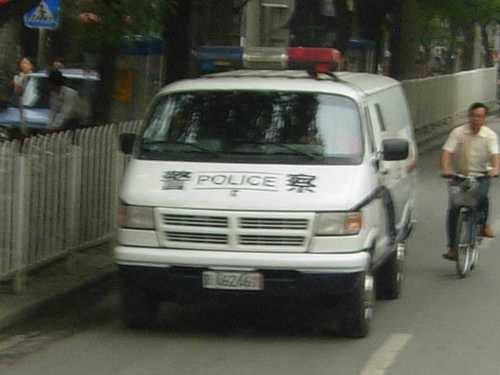Police Van: (117, 39, 423, 333)
